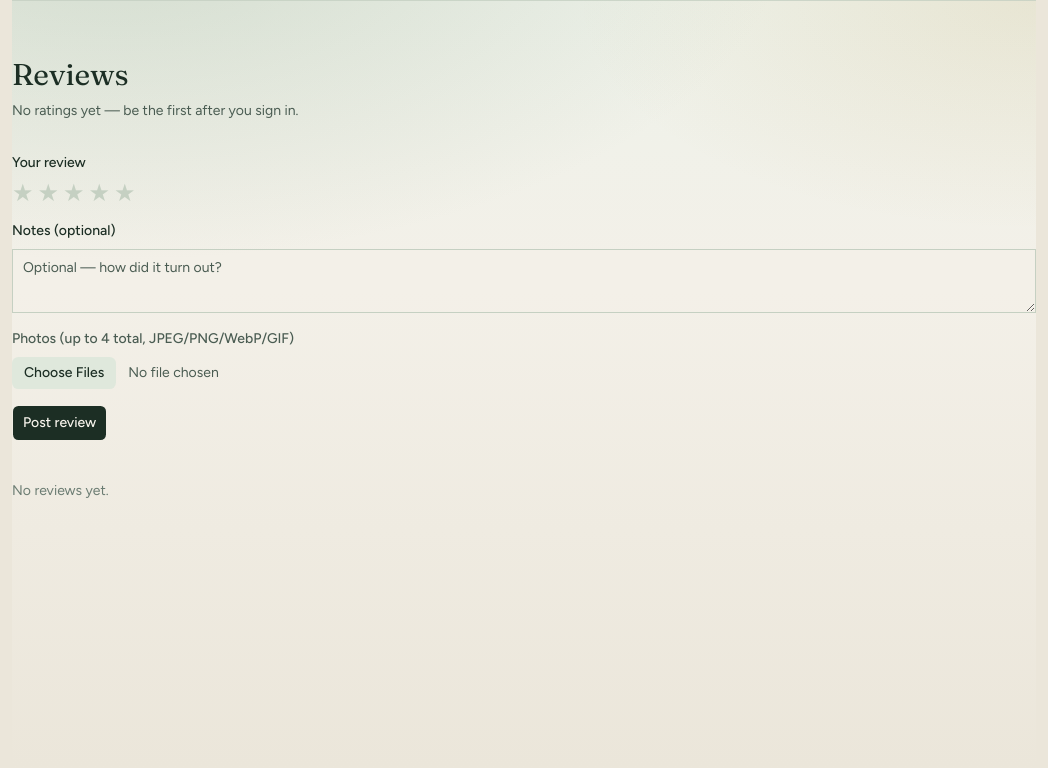
Test case: RecipeReviewsSection › posts a review when signed in with a display name
The image size is (1048, 768).
Click the radio button named "5 stars" at point(125, 193), box [114, 181, 136, 205]
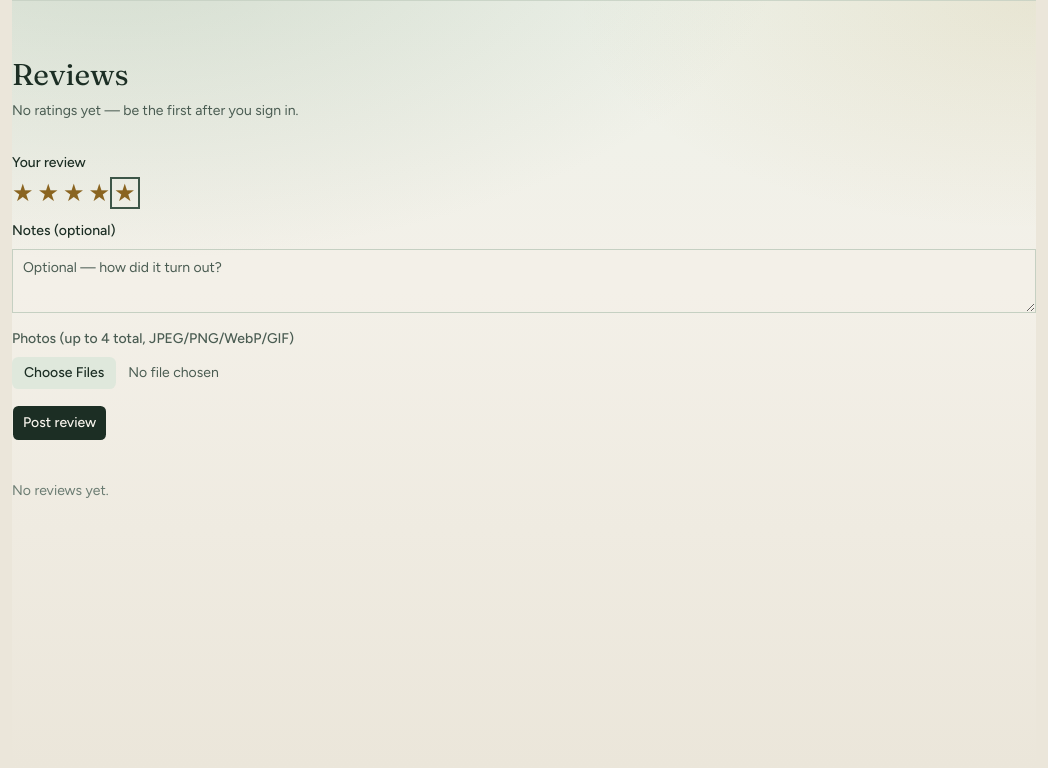
Type "Delicious" into the text box with placeholder "Optional — how did it turn out?" at point(524, 281), box [12, 249, 1036, 313]
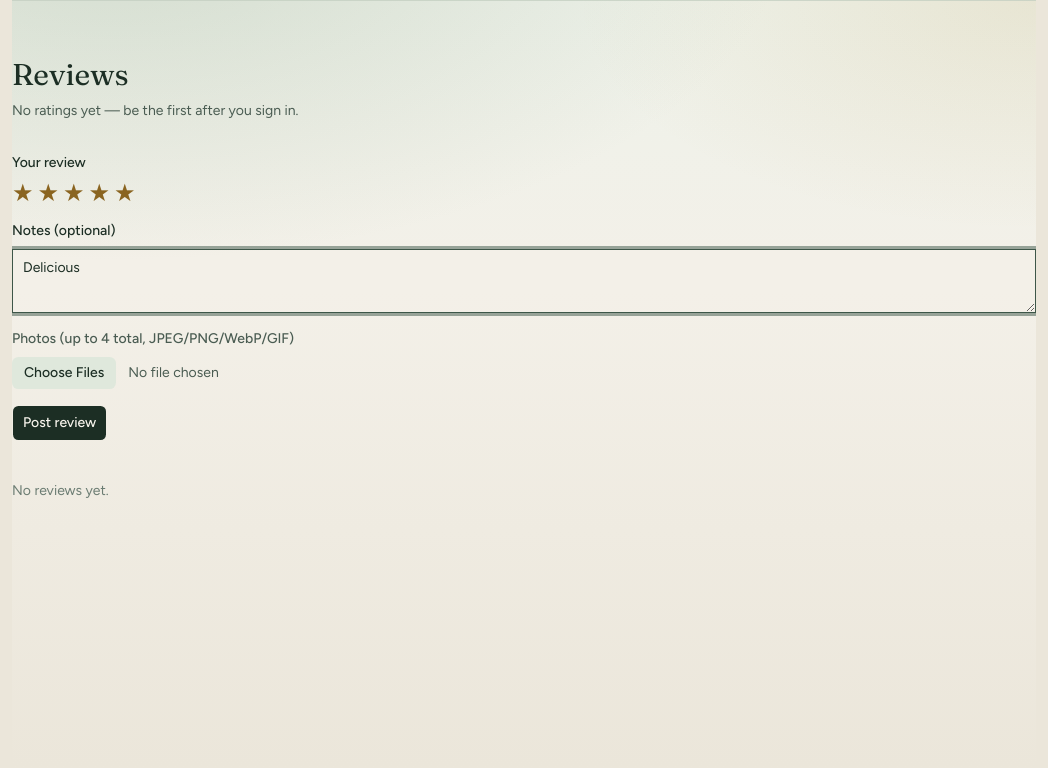
Click the button "Post review" at point(60, 423), box [12, 405, 107, 441]
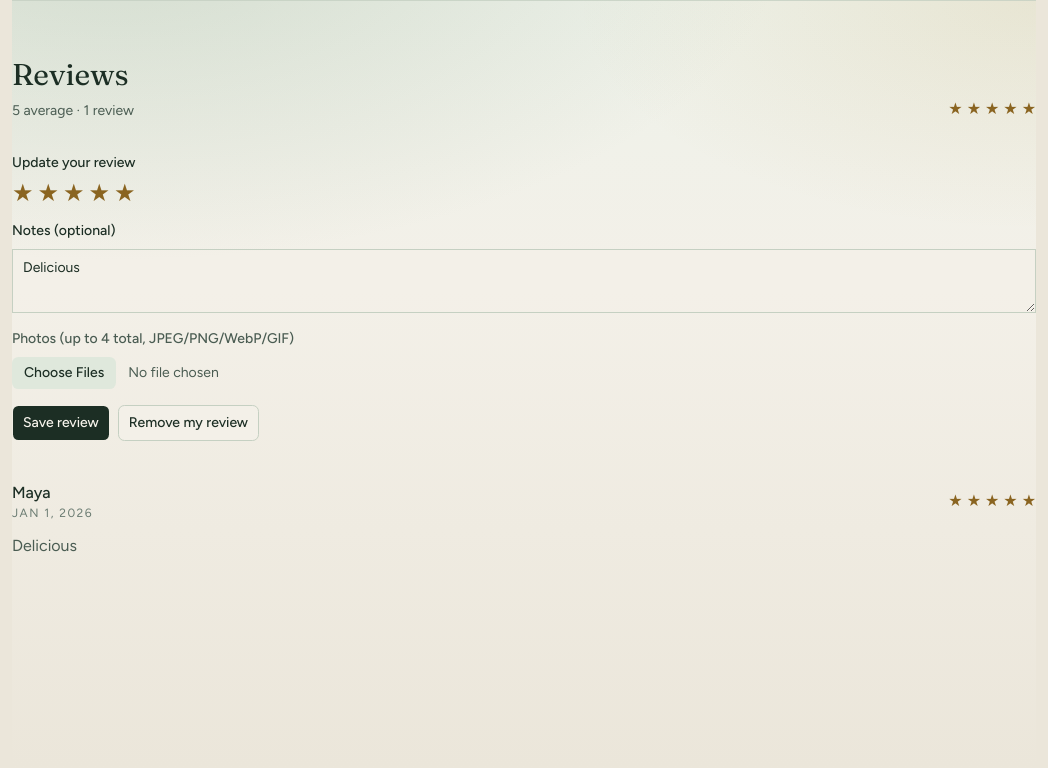
Result: the text "Maya" is shown at [12, 481, 50, 505]
Result: the text "5 average · 1 review" is shown at [12, 101, 134, 121]
